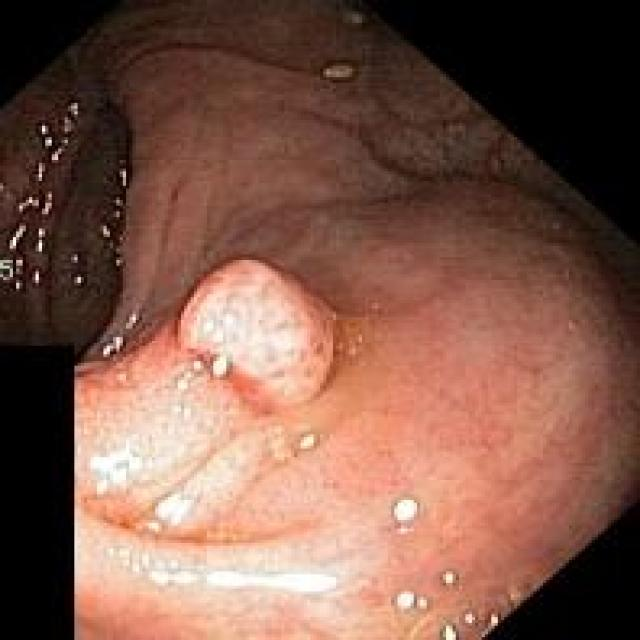Polyps: (178, 260, 335, 408)
